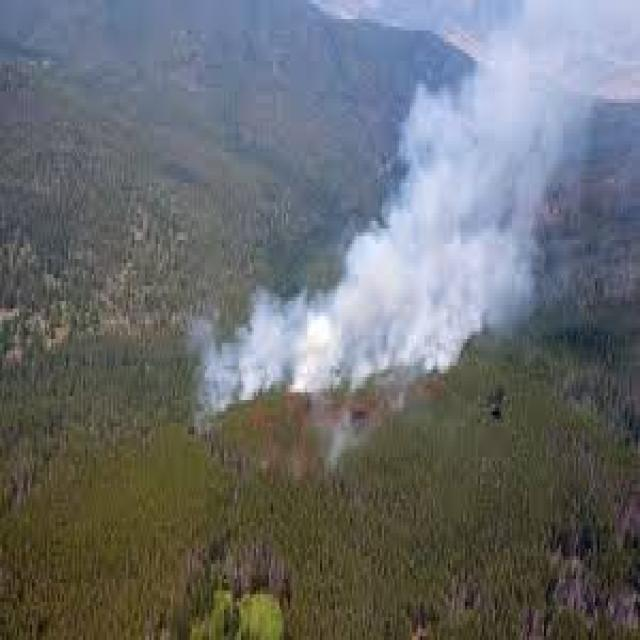Smoke: (334, 79, 580, 348), (195, 260, 488, 407)
